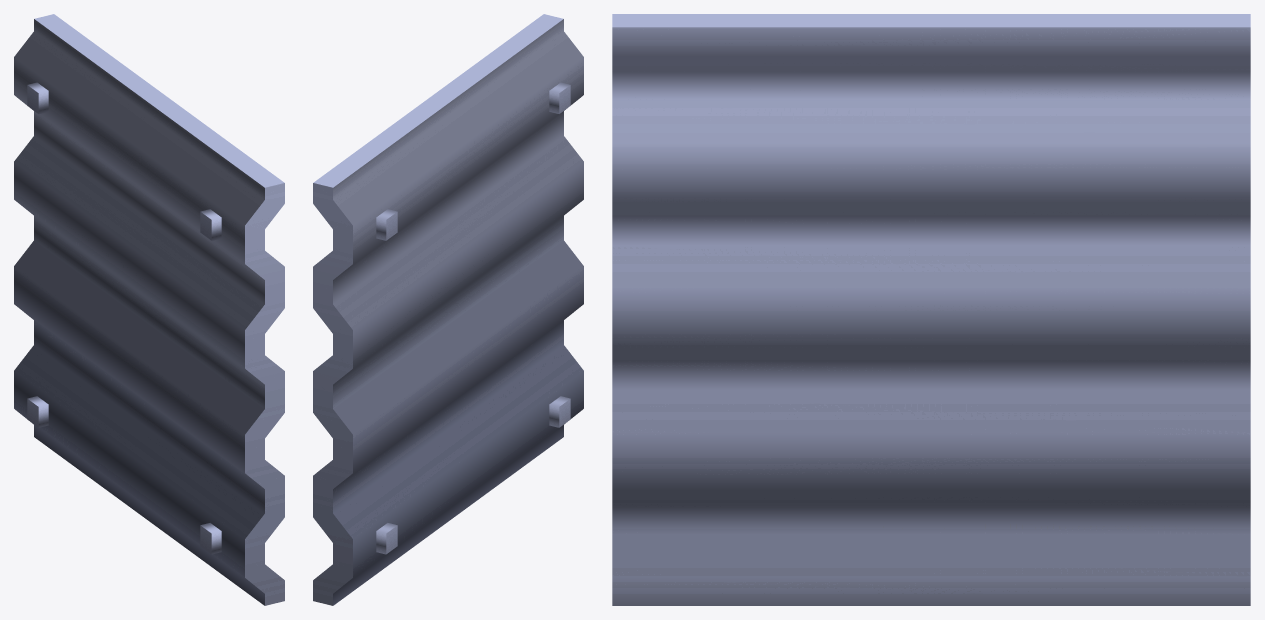
File: plating_detailed.glb
3 views of the same model, side by side, from view 1: azimuth 30°, elevation 25°; view 2: azimuth 150°, elevation 25°; view 3: azimuth 270°, elevation 25° (orthographic). The views are drawn at different scales.
Parts seen in each view (by area): view 1: plating-detailed; view 2: plating-detailed; view 3: plating-detailed.
Part boxes in pixels (x1,y1,x2,y2): plating-detailed: (14, 14, 284, 605); plating-detailed: (313, 14, 583, 605); plating-detailed: (612, 14, 1250, 605).
Bounding box in the file's own units: 0.125 × 1 × 1.
1 material, 1 textured.
